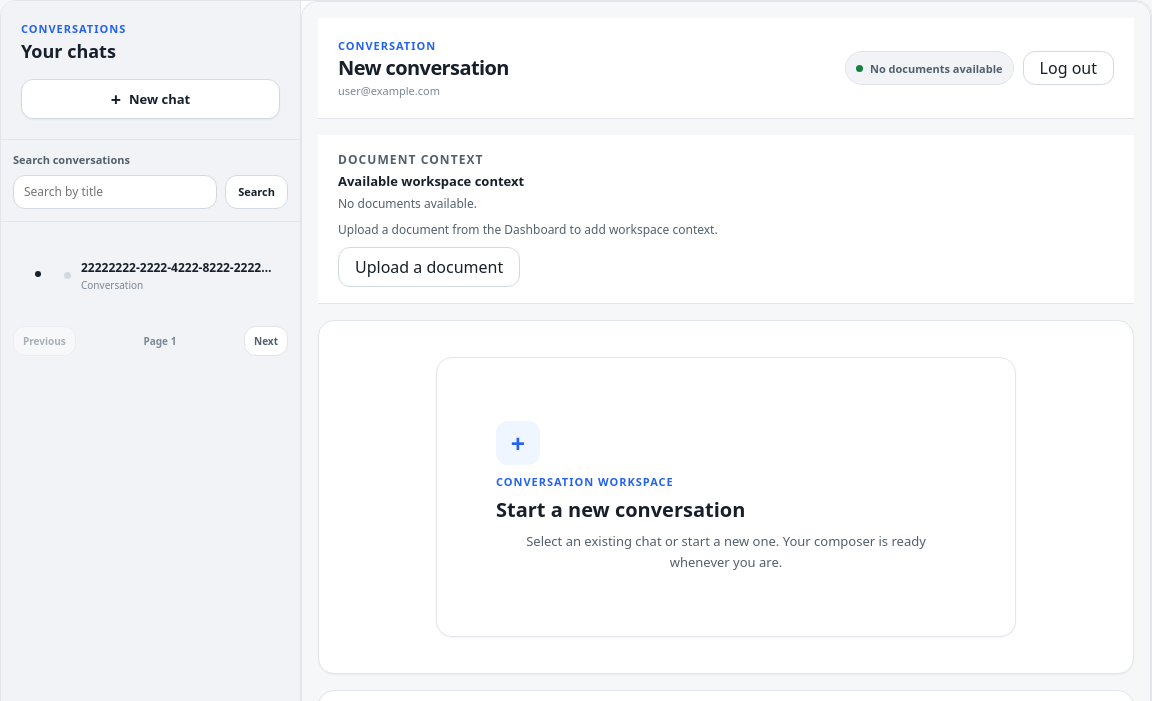
Test case: ChatPage › selects a conversation and renders history in backend order
The width and height of the screenshot is (1152, 701).
Click the button "22222222-2222-4222-8222-222222222222": click(170, 276) [53,250,288,302]
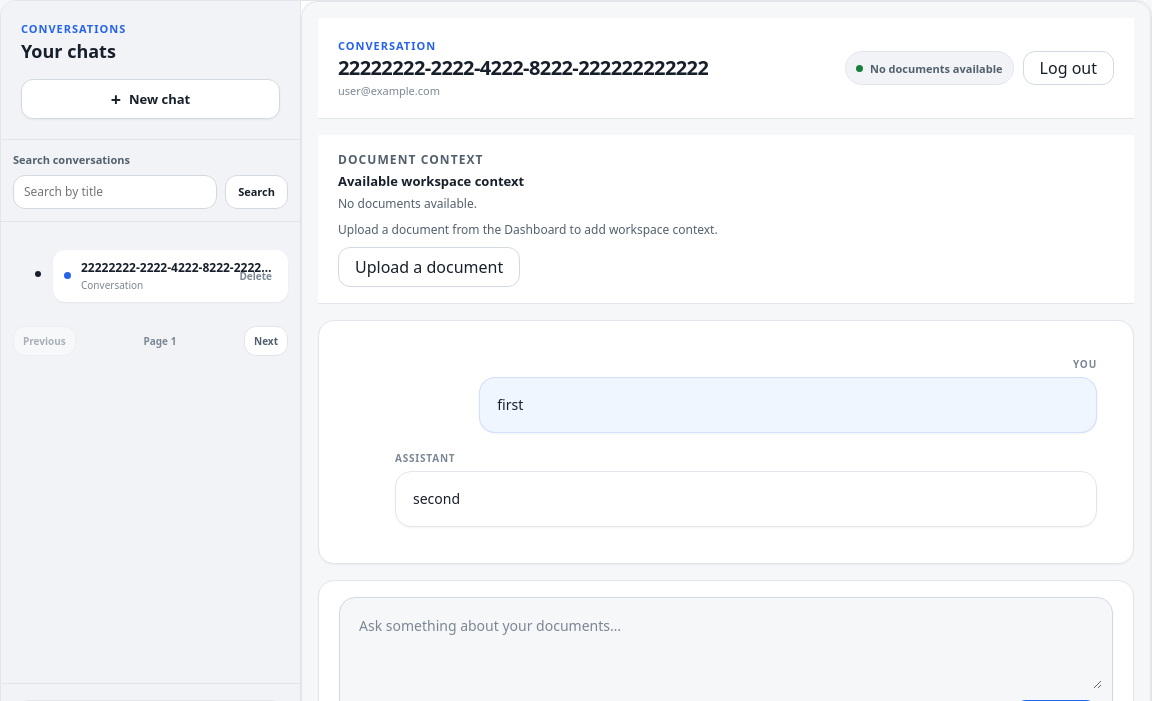
Expected: the text "first" is shown, [497,395,523,414]
Expected: the text "second" is shown, [413,489,460,508]
